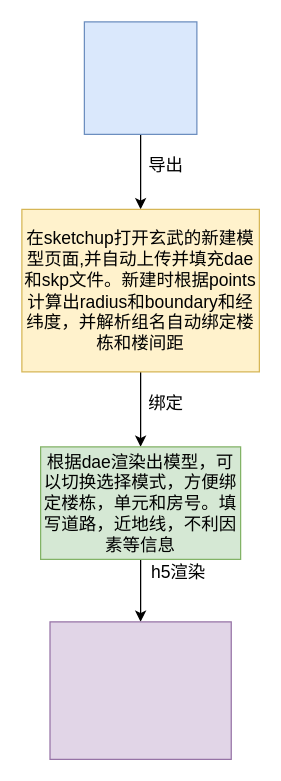
This 281x781 diagram has some shape labels left out. The centre of each missing label's shape, as x and y in pixels:
"Sketchup绘制建筑物，并计算points" goes at point (140, 77).
"新增模型接口返回dae的路径和radius和boundary等信息。3d数据接口不变" goes at point (140, 690).
